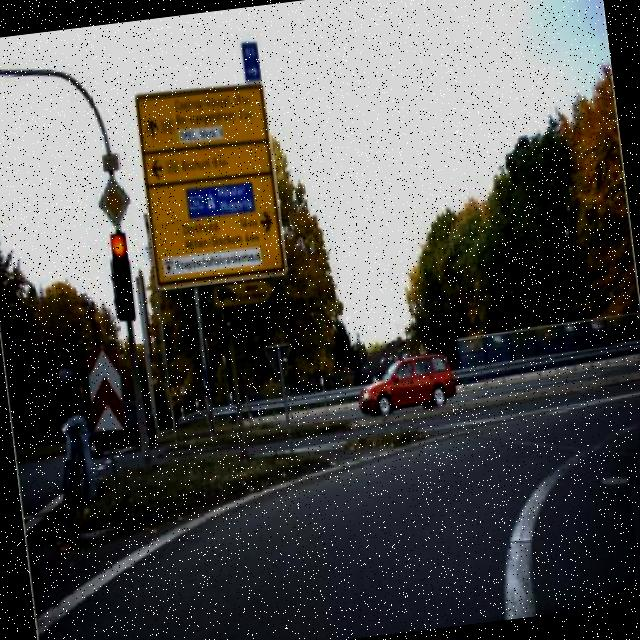Ograniczenie predkosci do 30: (176, 383, 186, 397)
